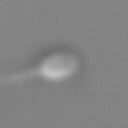normal: (1, 65, 39, 92)
